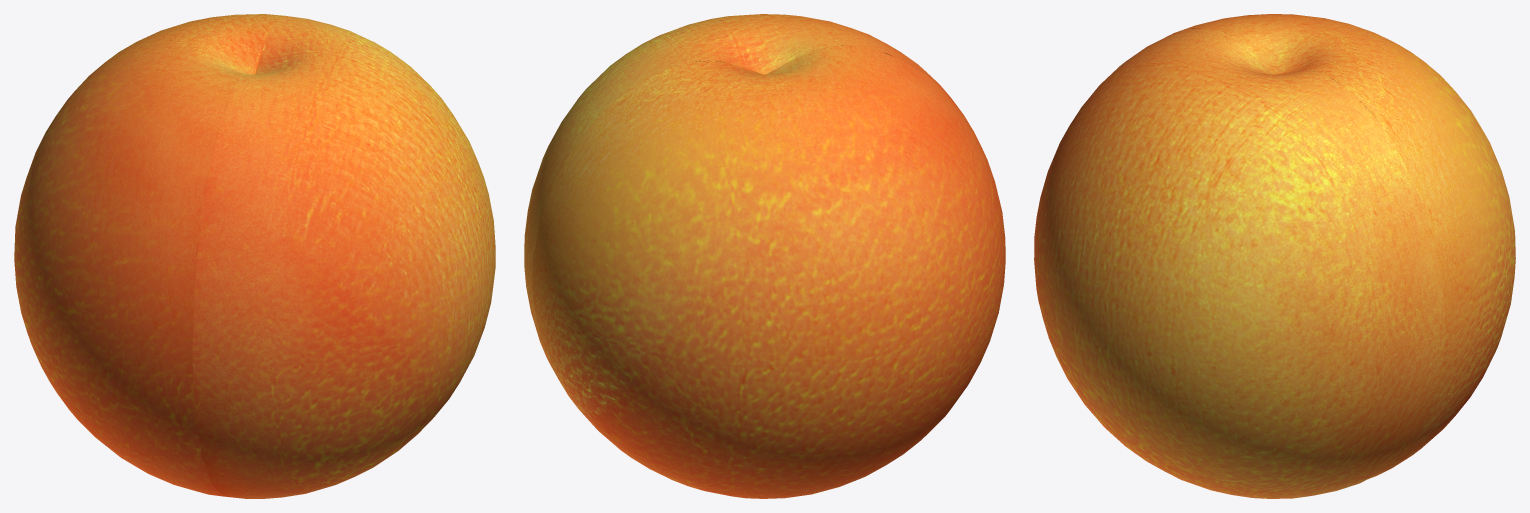
3 renders of one model, left to right at view 1: azimuth 30°, elevation 25°; view 2: azimuth 150°, elevation 25°; view 3: azimuth 270°, elevation 25°, orthographic.
Parts seen in each view (by area): view 1: Sphere.002_blood orange whole_0; view 2: Sphere.002_blood orange whole_0; view 3: Sphere.002_blood orange whole_0.
Boxes of the visible parts, left/top/right/bottom form: Sphere.002_blood orange whole_0: left=14, top=14, right=495, bottom=498; Sphere.002_blood orange whole_0: left=524, top=14, right=1005, bottom=498; Sphere.002_blood orange whole_0: left=1034, top=14, right=1515, bottom=498.
Size of the model in its own units: 0.07 by 0.07 by 0.068.
Materials: 1 (1 with a texture image).
